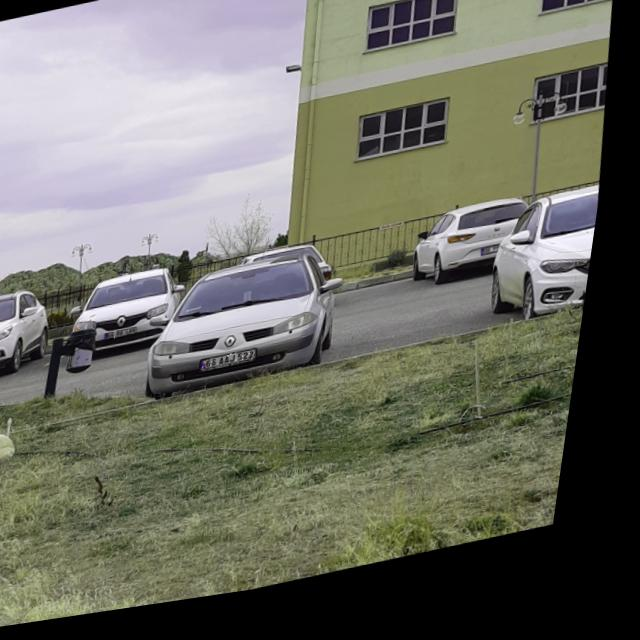license_plate: (211, 356, 269, 378), (115, 332, 147, 345)
